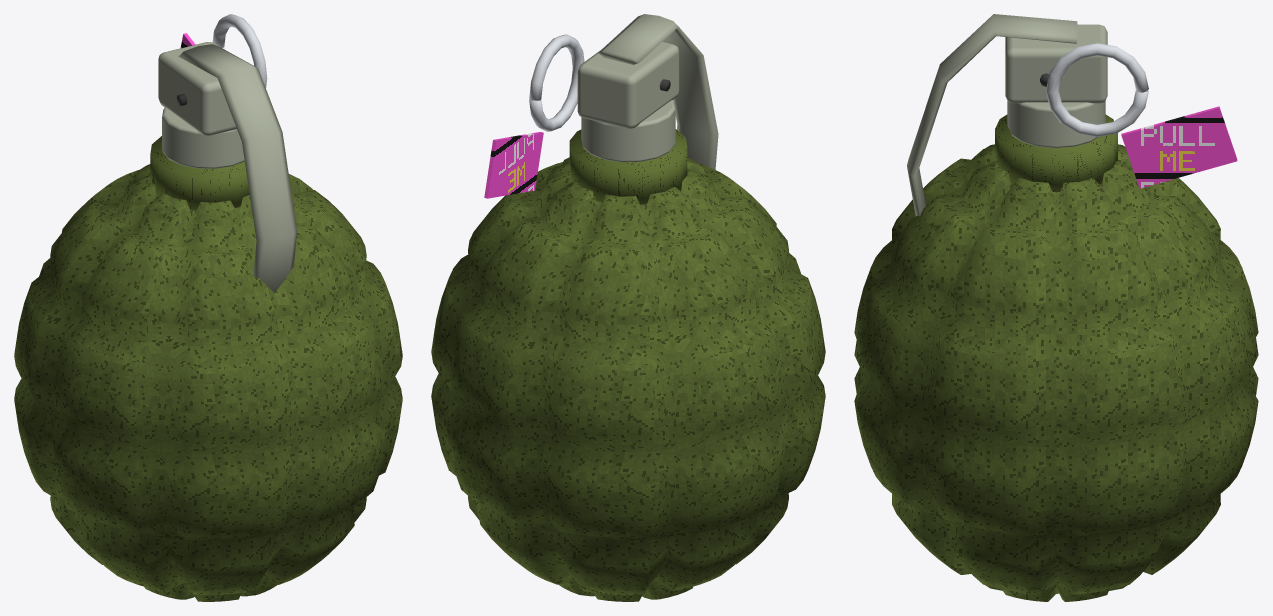
File: pj_frag.glb
3 renders of one model, left to right at view 1: azimuth 30°, elevation 25°; view 2: azimuth 150°, elevation 25°; view 3: azimuth 270°, elevation 25°, orthographic. The views are drawn at different scales.
Visible parts, largest first — view 1: pfrag_wzB, pfrag_wzA; view 2: pfrag_wzB, pfrag_wzA, pfrag_wzN; view 3: pfrag_wzB, pfrag_wzA, pfrag_wzN.
Part boxes in pixels (x1=…): pfrag_wzB: x1=14, y1=136, x2=402, y2=601; pfrag_wzA: x1=158, y1=14, x2=297, y2=292; pfrag_wzB: x1=431, y1=129, x2=825, y2=601; pfrag_wzA: x1=529, y1=14, x2=718, y2=169; pfrag_wzN: x1=484, y1=132, x2=543, y2=198; pfrag_wzB: x1=854, y1=114, x2=1258, y2=601; pfrag_wzA: x1=907, y1=14, x2=1148, y2=216; pfrag_wzN: x1=1121, y1=106, x2=1237, y2=188.
Bounding box in the file's own units: 0.1972 × 0.3062 × 0.1972.
5 materials, 2 textured.
